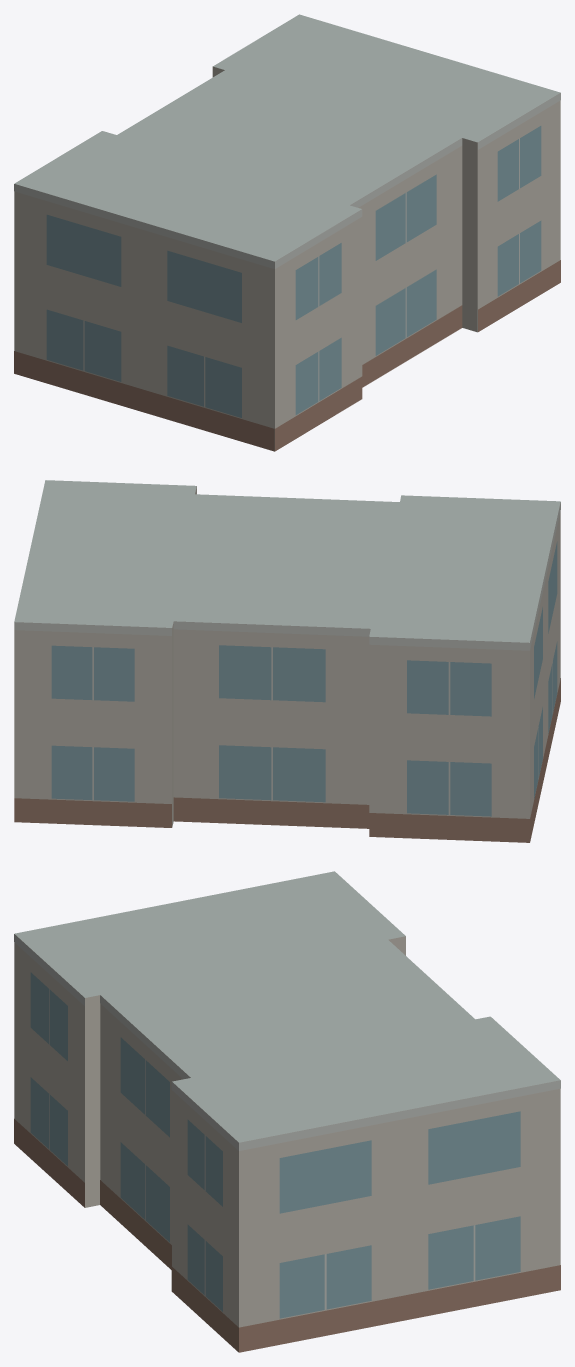
File: survey-upis-33027594.glb
3 renders of one model, top to bottom at view 1: azimuth 30°, elevation 25°; view 2: azimuth 150°, elevation 25°; view 3: azimuth 270°, elevation 25°, orthographic. The views are drawn at different scales.
Visible parts, largest first — view 1: survey-upis-33027594.tmp; view 2: survey-upis-33027594.tmp; view 3: survey-upis-33027594.tmp.
Part boxes in pixels (x1,y1,x2,y2): survey-upis-33027594.tmp: (14,14,560,451); survey-upis-33027594.tmp: (14,480,560,842); survey-upis-33027594.tmp: (14,871,560,1352).
Bounding box in the file's own units: 16.93 × 6.1 × 14.41.
